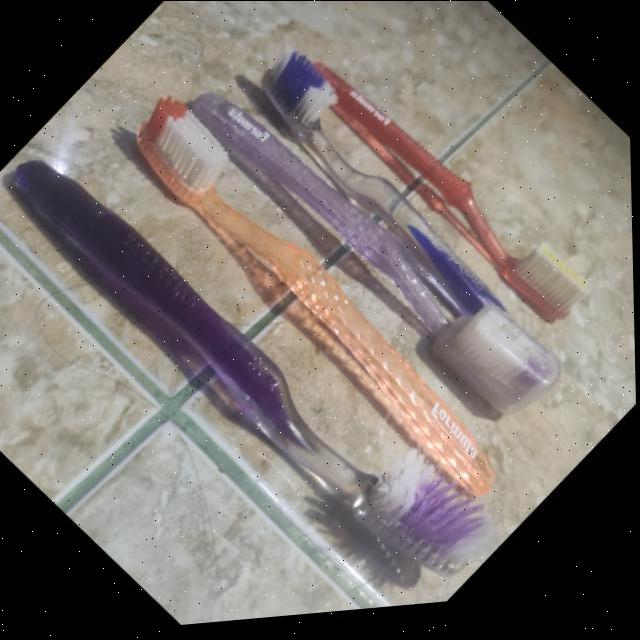toothbrush: (0, 70, 512, 640), (93, 51, 547, 549), (162, 10, 586, 472), (246, 21, 598, 408), (275, 0, 629, 372)
